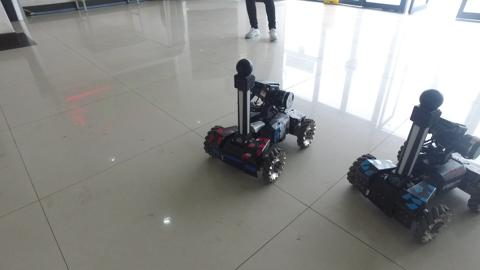chariot: (345, 87, 480, 246), (197, 57, 323, 195)
